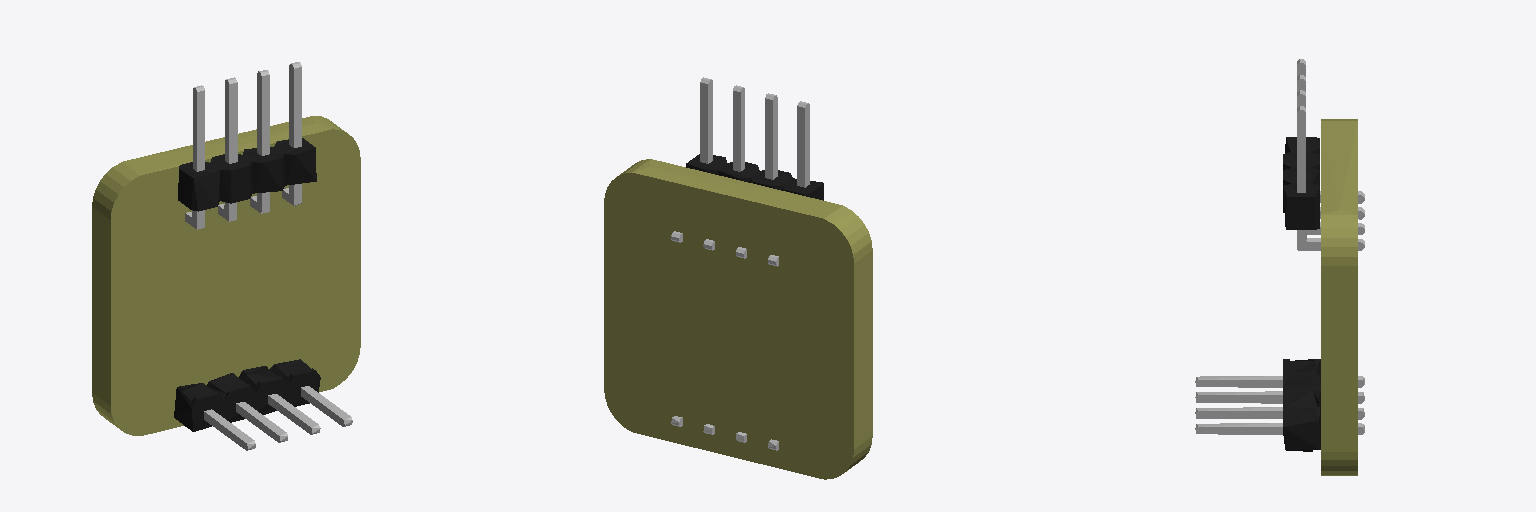
File: OBJ_PCB_LiDAR_Adapter_PCB.obj
3 views of the same model, side by side, from view 1: azimuth 30°, elevation 25°; view 2: azimuth 150°, elevation 25°; view 3: azimuth 270°, elevation 25° (orthographic).
Size of the model in its own units: 77.54 by 102 by 45.43.